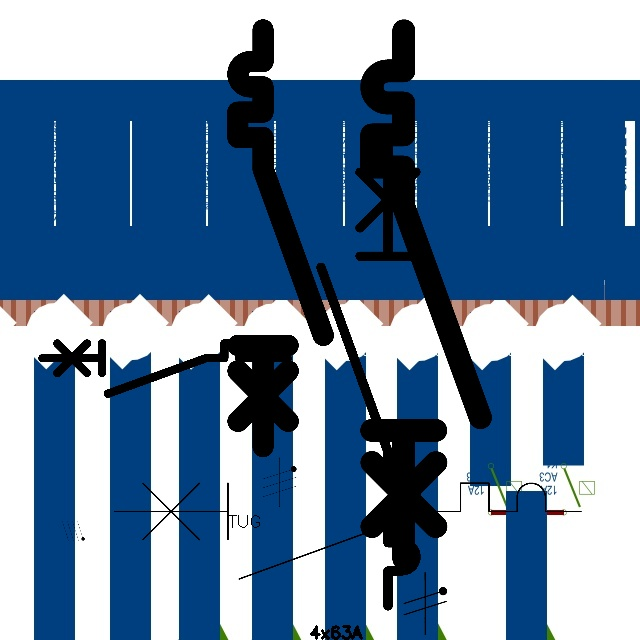interruptor_termomagnetico: (358, 17, 494, 572), (102, 471, 592, 591), (309, 132, 428, 618), (227, 19, 334, 457), (36, 337, 294, 400)
